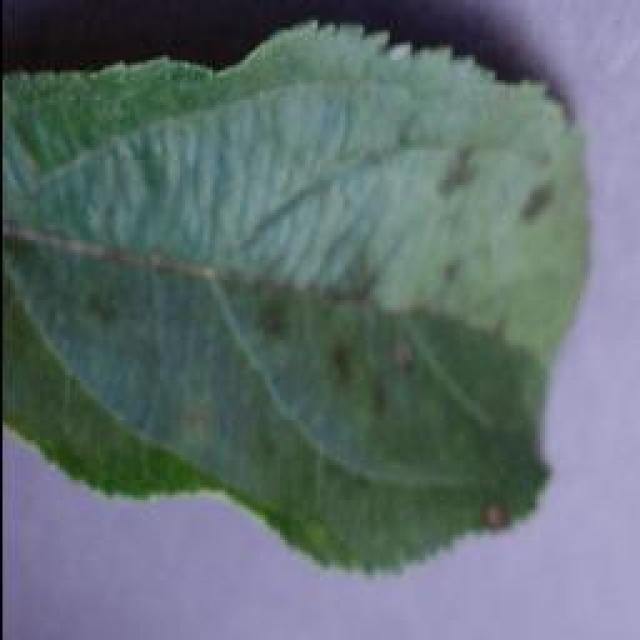apple scab disease: (0, 15, 595, 575)
